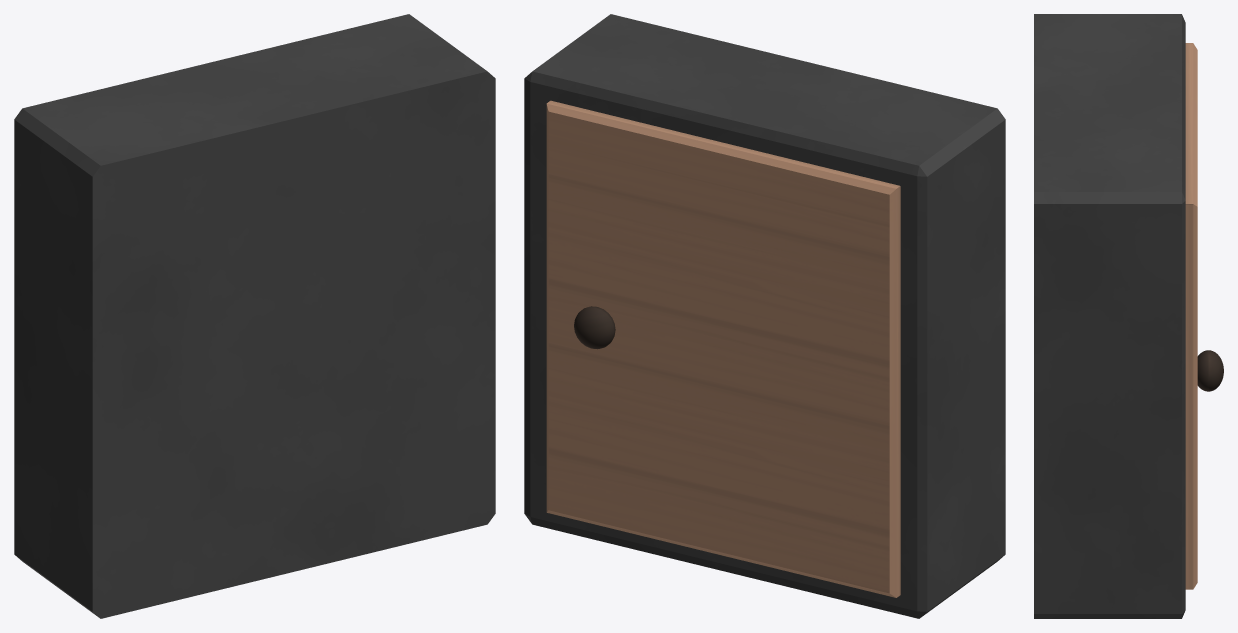
File: KitchenCabinetRight.fbx
3 renders of one model, left to right at view 1: azimuth 30°, elevation 25°; view 2: azimuth 150°, elevation 25°; view 3: azimuth 270°, elevation 25°, orthographic. The views are drawn at different scales.
Visible parts, largest first — view 1: Kitchen_Hanging_Cabinet_Right1; view 2: Kitchen_Hanging_Cabinet_Right1; view 3: Kitchen_Hanging_Cabinet_Right1.
Boxes of the visible parts, x1,y1,x2,y2 form: Kitchen_Hanging_Cabinet_Right1: [14, 14, 495, 618]; Kitchen_Hanging_Cabinet_Right1: [524, 14, 1005, 618]; Kitchen_Hanging_Cabinet_Right1: [1034, 14, 1223, 618].
Bounding box in the file's own units: 88.44 × 95.04 × 38.31.
Materials: 1 (1 with a texture image).
